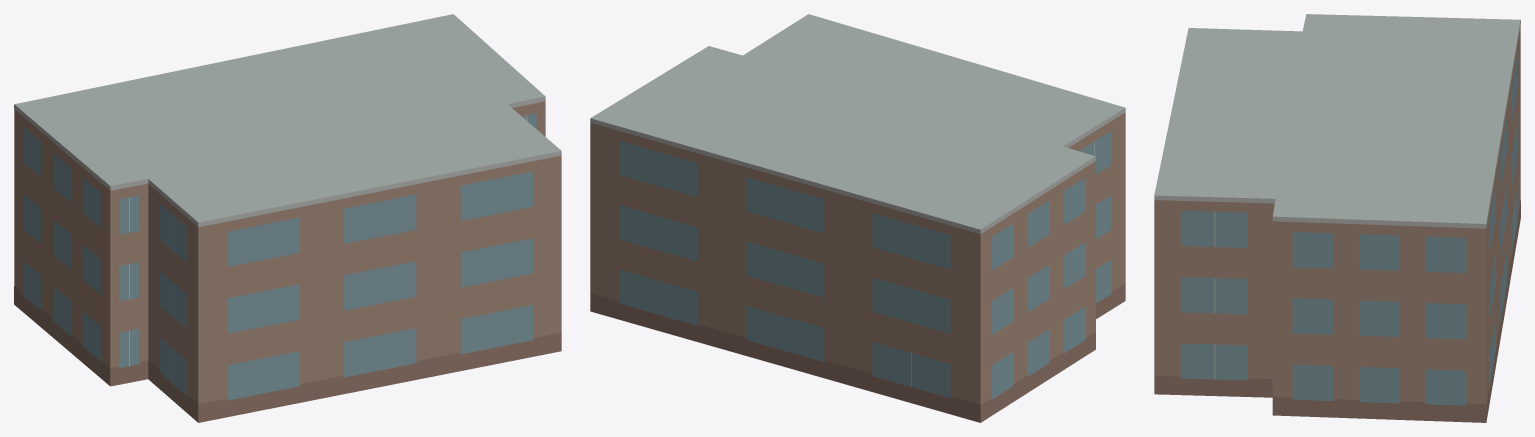
Rendered from survey-upis-32943270.glb.
3 renders of one model, left to right at view 1: azimuth 30°, elevation 25°; view 2: azimuth 150°, elevation 25°; view 3: azimuth 270°, elevation 25°, orthographic. The views are drawn at different scales.
Visible parts, largest first — view 1: survey-upis-32943270.tmp; view 2: survey-upis-32943270.tmp; view 3: survey-upis-32943270.tmp.
Boxes of the visible parts, x1,y1,x2,y2 form: survey-upis-32943270.tmp: [14, 14, 561, 422]; survey-upis-32943270.tmp: [590, 14, 1125, 422]; survey-upis-32943270.tmp: [1154, 14, 1520, 422].
Size of the model in its own units: 23.8 by 10.5 by 17.55.
